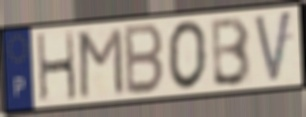B: (123, 22, 165, 98), (211, 14, 254, 88)
H: (35, 29, 79, 104)
M: (77, 25, 126, 101)
O: (166, 19, 209, 92)
V: (252, 8, 294, 86)
